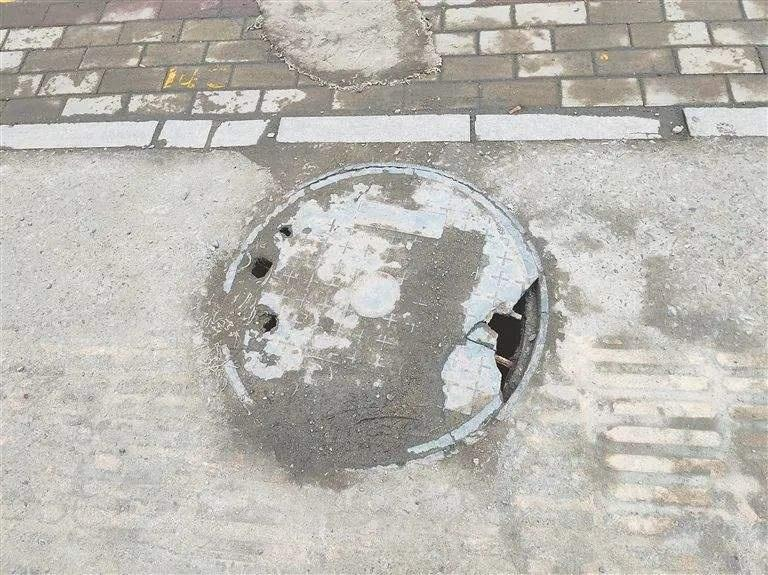wellcover: (207, 154, 554, 482)
